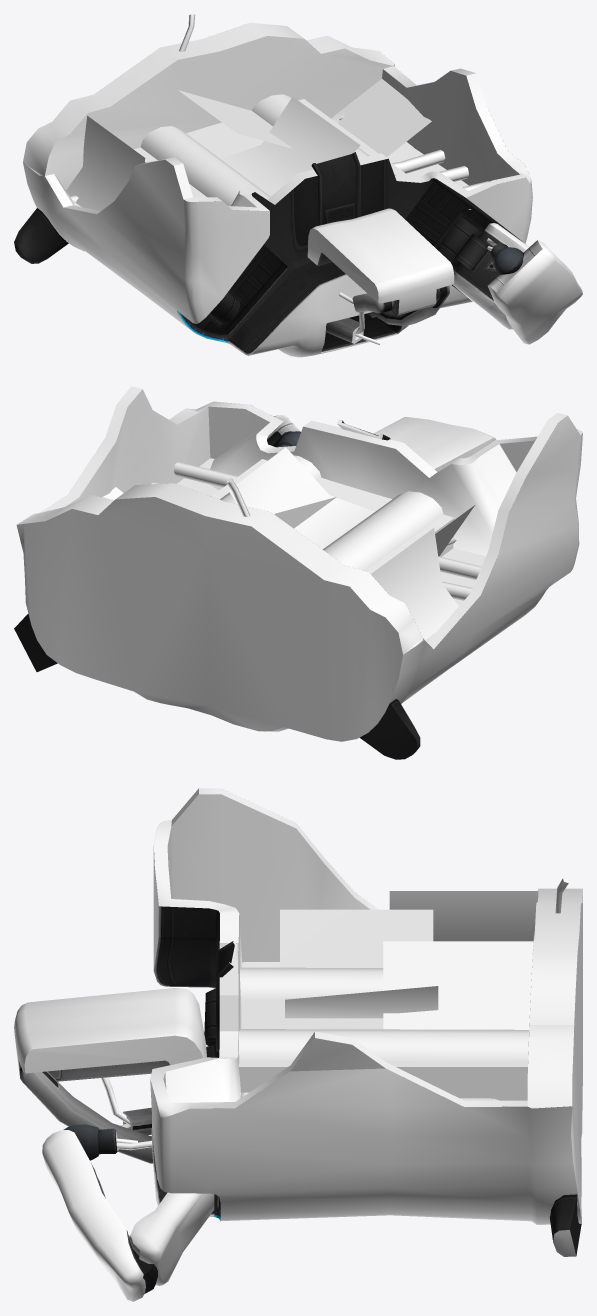
File: PetFabricatorDamaged.fbx
The picture shows the model from 3 angles, top to bottom: view 1: azimuth 30°, elevation 25°; view 2: azimuth 150°, elevation 25°; view 3: azimuth 270°, elevation 25°; orthographic projection. The views are drawn at different scales.
Parts seen in each view (by area): view 1: model; view 2: model; view 3: model.
Part boxes in pixels (x1=…): model: x1=14, y1=14, x2=582, y2=357; model: x1=14, y1=386, x2=582, y2=759; model: x1=14, y1=788, x2=582, y2=1301.
Bounding box in the file's own units: 1.21 × 0.7272 × 1.19.
Materials: 3 (1 with a texture image).
